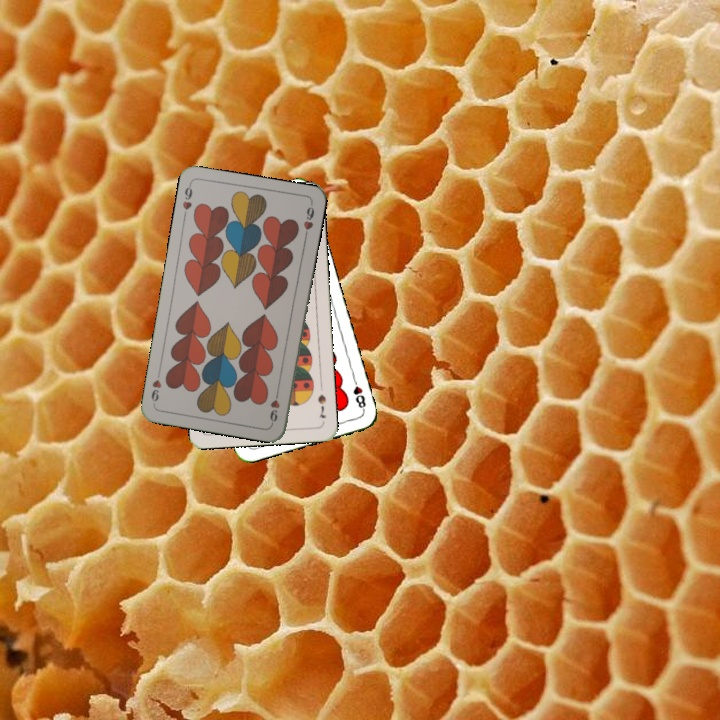H8: (349, 373, 368, 413)
H9: (266, 386, 282, 426), (179, 180, 195, 220)
S7: (314, 390, 329, 421)
